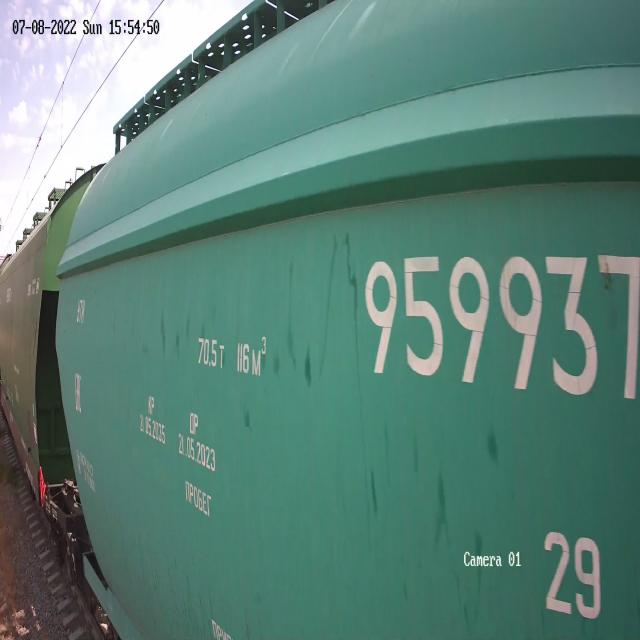hopper: (49, 0, 640, 640), (0, 157, 105, 544)
